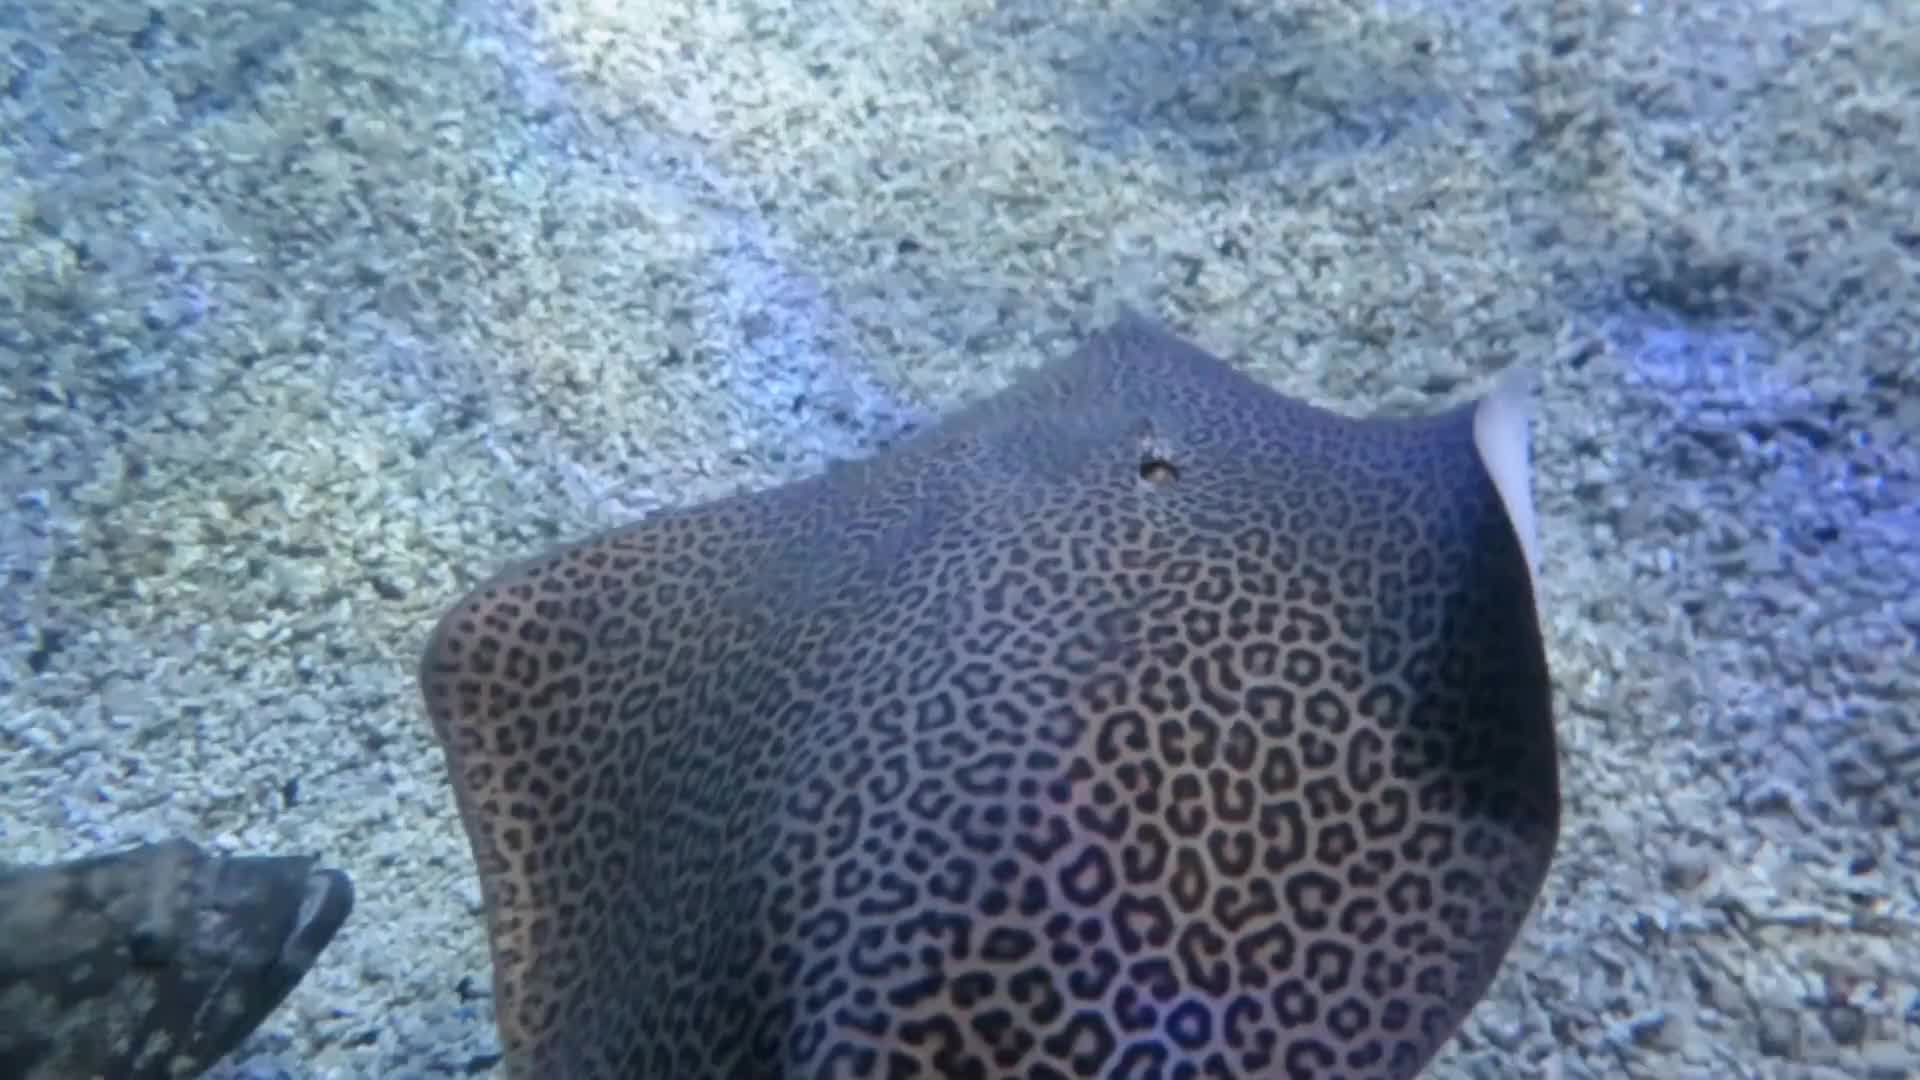Himantura uarnak: (393, 255, 1611, 1080)
